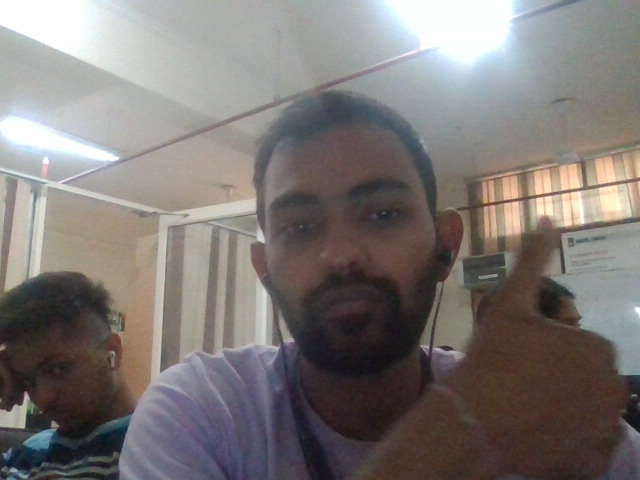Yes: (441, 215, 631, 478)
